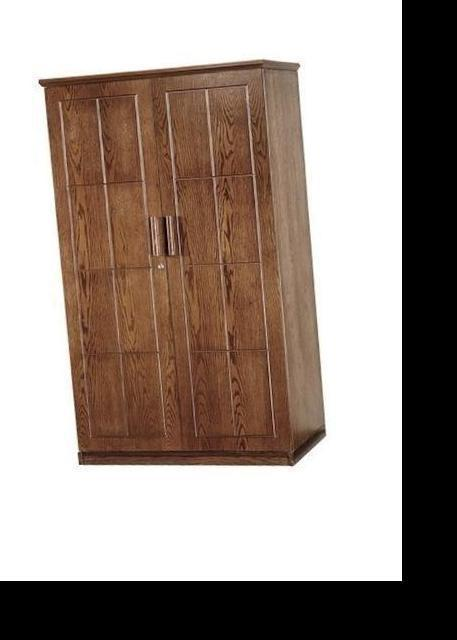Armario: (38, 58, 322, 478)
